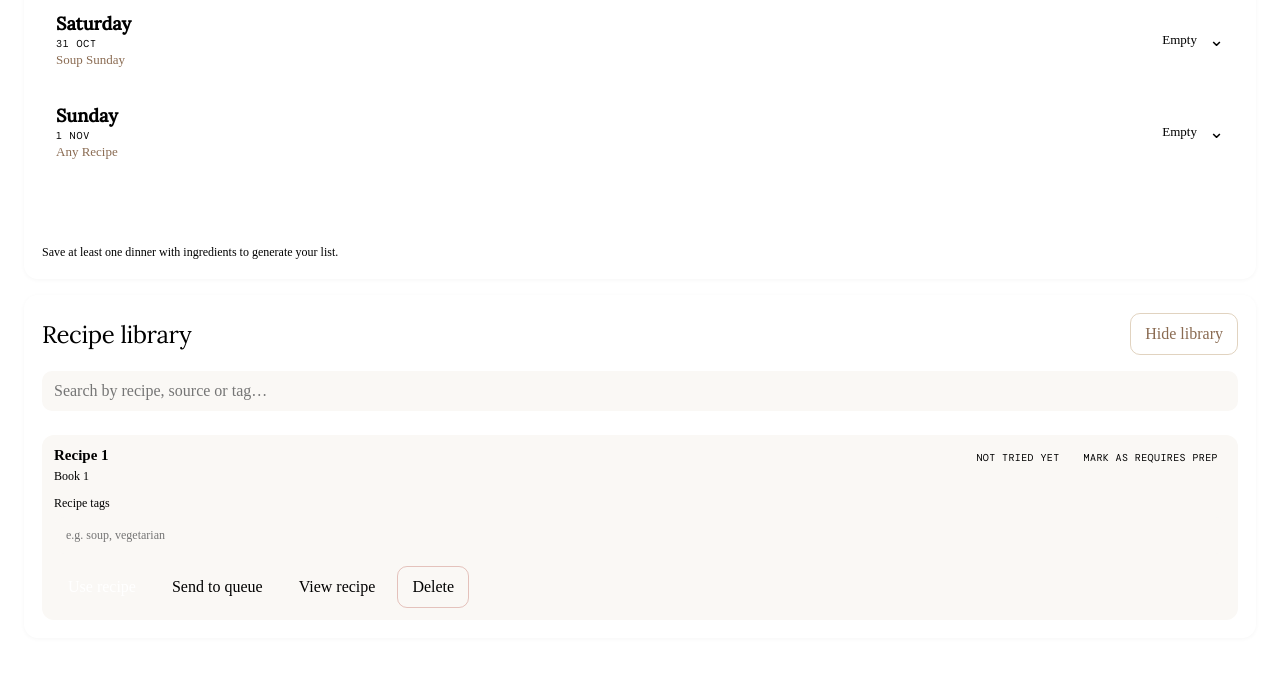
Test case: touchscreen recipe cards keep Delete tappable without enabling native drag
(page scrolled)
What coordinates should you click on to do the following:
click the button "Delete"
I would click on:
 (433, 587)
Its box is [397, 566, 469, 608].
(page scrolled)
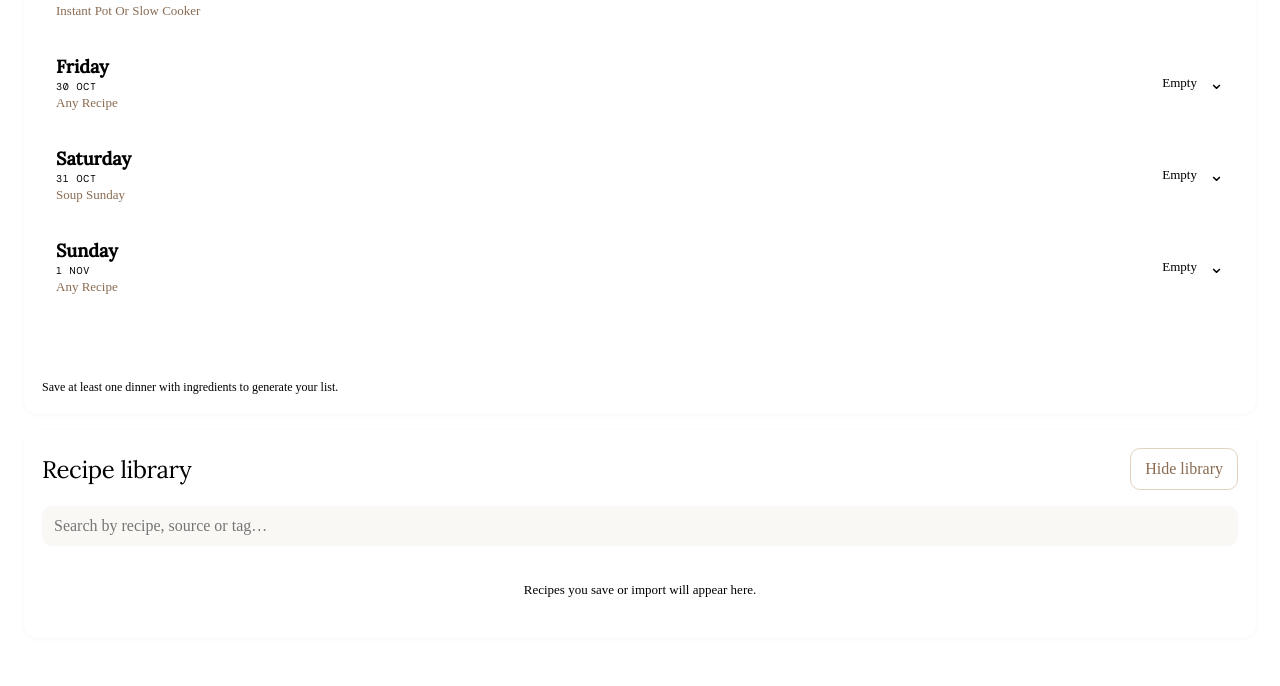
Check: the element with id "recipe-library" no longer shows "Recipe 1"
